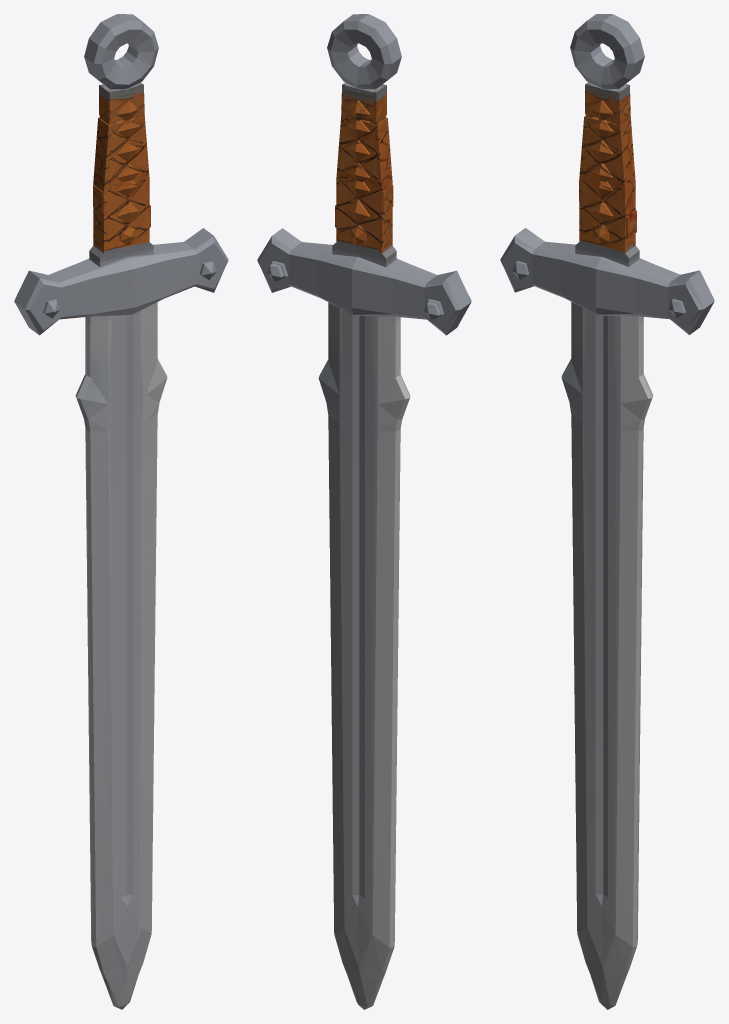
3 renders of one model, left to right at view 1: azimuth 30°, elevation 25°; view 2: azimuth 150°, elevation 25°; view 3: azimuth 330°, elevation 25°, orthographic.
Parts seen in each view (by area): view 1: texture_pbr_v128; view 2: texture_pbr_v128; view 3: texture_pbr_v128.
Boxes of the visible parts, left/top/right/bottom form: texture_pbr_v128: left=14, top=14, right=228, bottom=1009; texture_pbr_v128: left=257, top=14, right=471, bottom=1009; texture_pbr_v128: left=500, top=14, right=714, bottom=1009.
Size of the model in its own units: 0.2577 by 1.2 by 0.058.
Materials: 1 (1 with a texture image).
